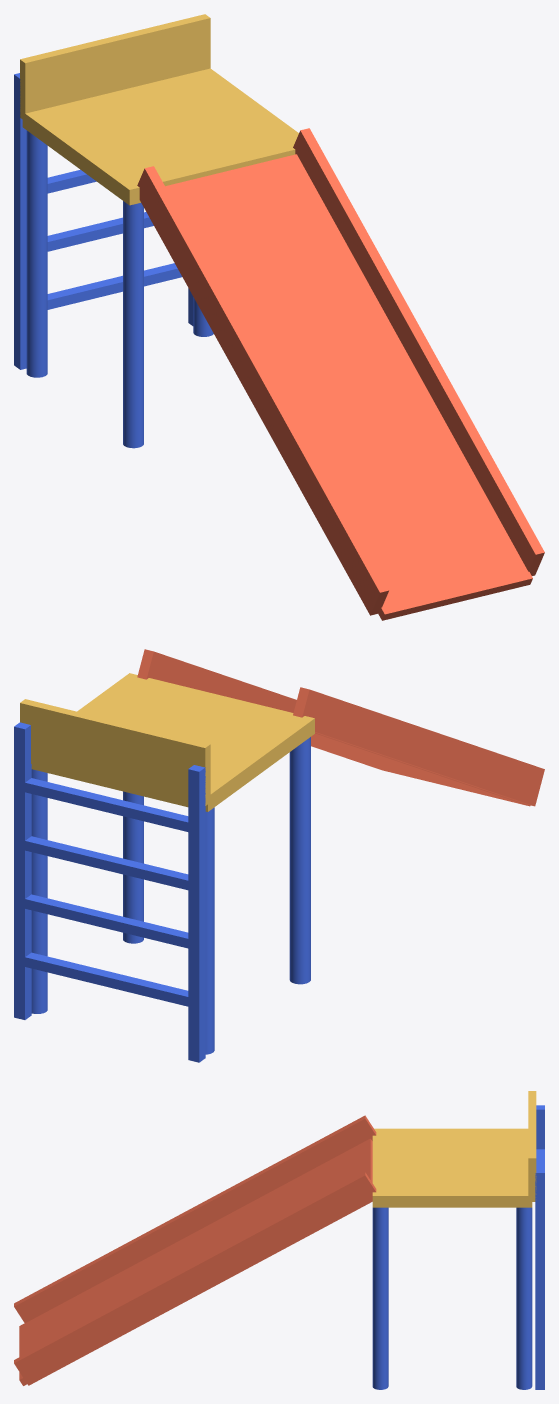
Rendered from slide.glb.
3 renders of one model, top to bottom at view 1: azimuth 30°, elevation 25°; view 2: azimuth 150°, elevation 25°; view 3: azimuth 270°, elevation 25°, orthographic. The views are drawn at different scales.
Parts seen in each view (by area): view 1: slide-2, slide-1, slide-0; view 2: slide-0, slide-1, slide-2; view 3: slide-2, slide-1, slide-0.
Boxes of the visible parts, box(x1,y1,x2,y2) form: slide-2: box(137, 128, 544, 620); slide-1: box(20, 14, 298, 205); slide-0: box(14, 73, 213, 448); slide-0: box(14, 722, 310, 1062); slide-1: box(20, 673, 314, 811); slide-2: box(137, 649, 544, 806); slide-2: box(14, 1115, 376, 1385); slide-1: box(372, 1091, 536, 1207); slide-0: box(372, 1105, 544, 1389).
Size of the model in its own units: 1 by 1.62 by 3.33.
